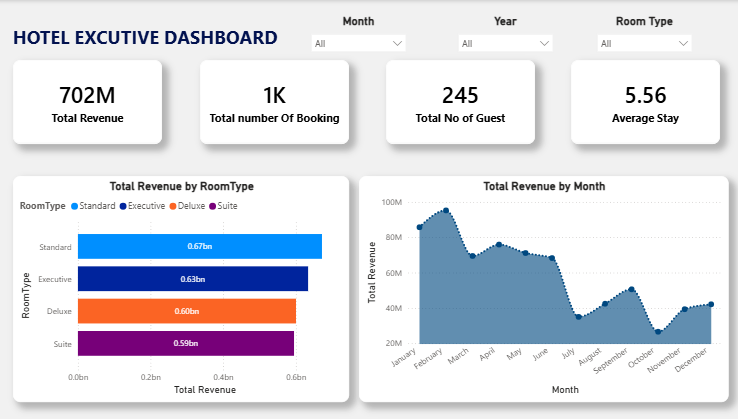

What the dashboard file says about the page in this screenshot:
{"tool":"powerbi","page":{"name":"Excutive","canvas":[1280,720],"ordinal":0},"visuals":[{"type":"textbox","box":[199.9,30.2,413.2,53.8],"z":0},{"type":"cardVisual","fields":{"Data":["FactBookings.Total Revenue"]},"box":[213.3,87.3,218.4,122.6],"z":1000},{"type":"barChart","title":"Total Revenue by RoomType","fields":{"Y":["FactBookings.Total Revenue"],"Category":["DimRoom.RoomType"],"Series":["DimRoom.RoomType"]},"box":[213.3,257,492.2,330.9],"z":2000},{"type":"lineChart","fields":{"Y":["FactBookings.Total Revenue"],"Category":["DimDate.BookingDate.Variation.Date Hierarchy.Month"]},"box":[720.6,257,540.9,330.9],"z":3000},{"type":"slicer","title":"Month","fields":{"Values":["DimDate.MonthName"]},"box":[640,20.2,159.6,63.8],"z":4000},{"type":"shape","box":[0,0,191.2,721.4],"z":5000},{"type":"slicer","title":"Year","fields":{"Values":["DimDate.MonthName"]},"box":[855,20.2,159.6,63.8],"z":6000},{"type":"slicer","title":"Room Type","fields":{"Values":["DimDate.MonthName"]},"box":[1058.3,20.2,159.6,63.8],"z":7000},{"type":"cardVisual","fields":{"Data":["FactBookings.Total number Of Booking"]},"box":[487.1,87.3,218.4,122.6],"z":8000},{"type":"cardVisual","fields":{"Data":["FactBookings.Total No of Guest"]},"box":[759.3,87.3,218.4,122.6],"z":9000},{"type":"cardVisual","fields":{"Data":["FactBookings.Average Stay"]},"box":[1029.7,87.3,218.4,122.6],"z":10000},{"type":"actionButton","box":[9.5,87.1,174.2,58.7],"z":10001}]}

Visuals, with their boxes in screenshot pixels (x1, y1, x2, y2), scaled from the page's 1280x720 canvas onto the 738x419 screenshot:
textbox: (x1=115, y1=18, x2=353, y2=49)
cardVisual - FactBookings.Total Revenue: (x1=123, y1=51, x2=249, y2=122)
"Total Revenue by RoomType" barChart: (x1=123, y1=150, x2=407, y2=342)
lineChart - FactBookings.Total Revenue x DimDate.BookingDate.Variation.Date Hierarchy.Month: (x1=415, y1=150, x2=727, y2=342)
"Month" slicer: (x1=369, y1=12, x2=461, y2=49)
shape: (x1=0, y1=0, x2=110, y2=418)
"Year" slicer: (x1=493, y1=12, x2=585, y2=49)
"Room Type" slicer: (x1=610, y1=12, x2=702, y2=49)
cardVisual - FactBookings.Total number Of Booking: (x1=281, y1=51, x2=407, y2=122)
cardVisual - FactBookings.Total No of Guest: (x1=438, y1=51, x2=564, y2=122)
cardVisual - FactBookings.Average Stay: (x1=594, y1=51, x2=720, y2=122)
actionButton: (x1=5, y1=51, x2=106, y2=85)
